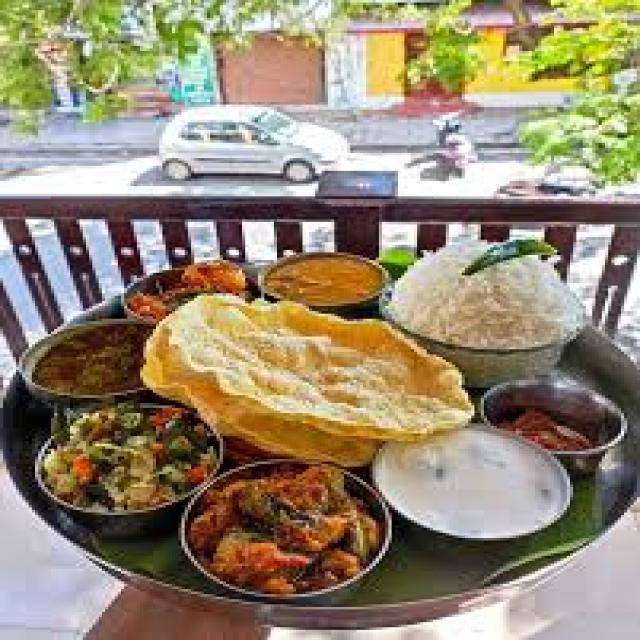curd: (370, 426, 574, 546)
papad: (173, 296, 469, 454)
pickle: (482, 381, 627, 455)
rice: (381, 235, 594, 360)
sambar-rasam: (261, 245, 386, 308)
sweet: (19, 317, 158, 403)
veg-fry: (172, 458, 393, 606)
